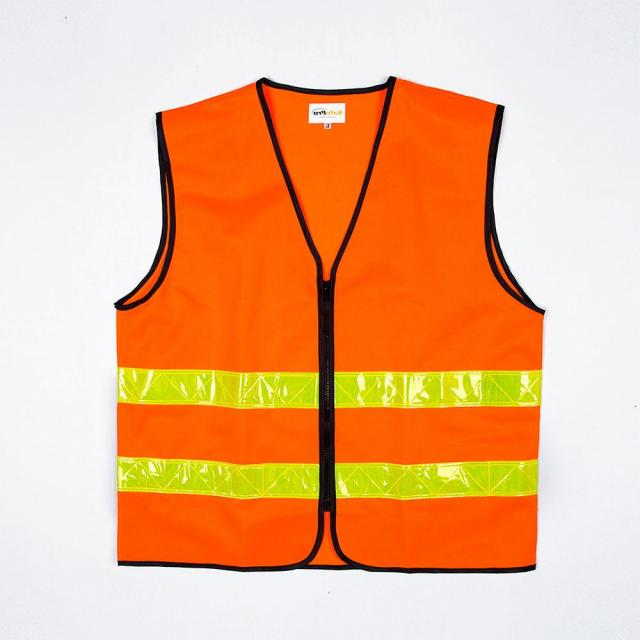Reflective-Jacket: (105, 56, 556, 598)
